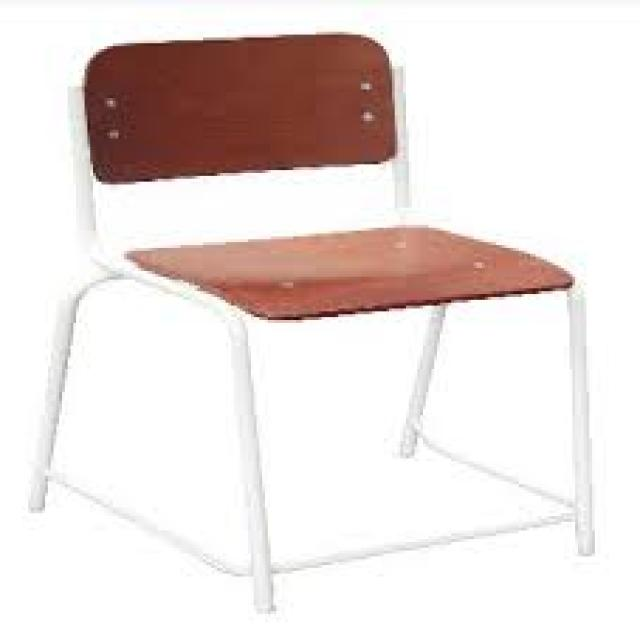chair: (27, 34, 599, 617)
